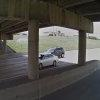Bridge: (4, 0, 91, 46)
